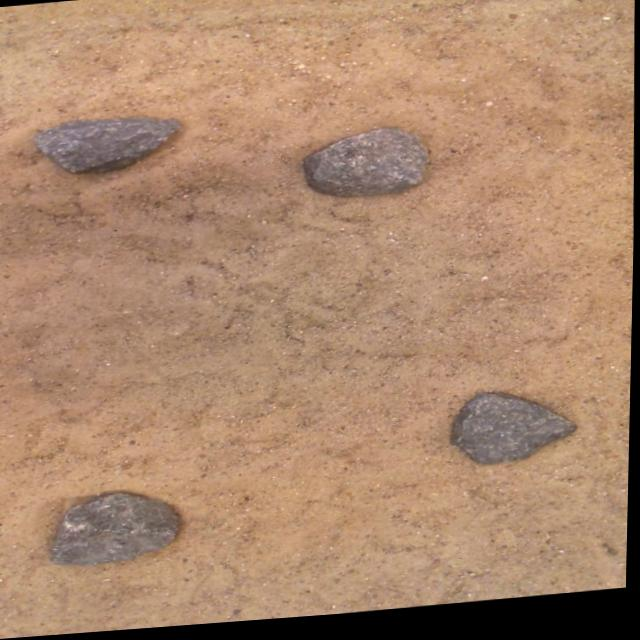rock: (54, 493, 181, 565), (454, 399, 578, 470), (305, 132, 428, 200), (37, 118, 181, 172)
